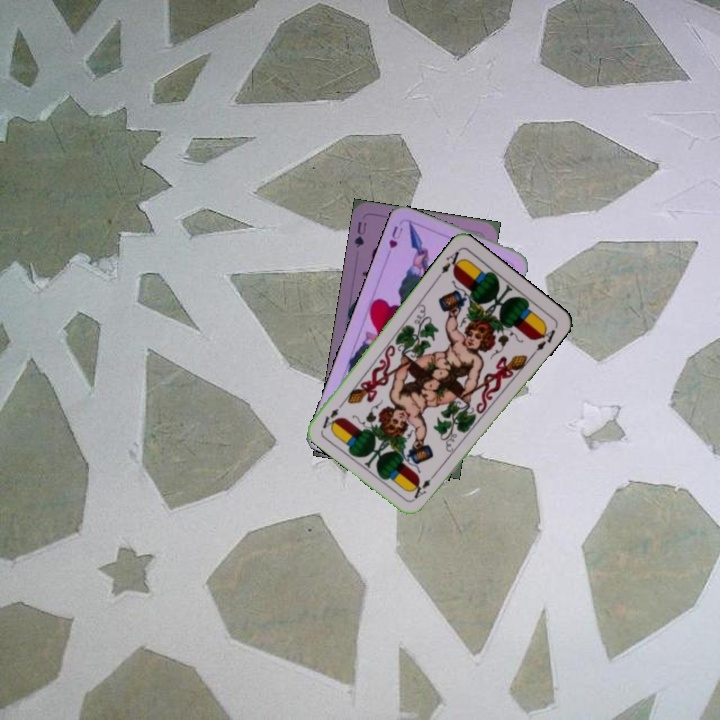EA: (433, 246, 466, 281), (409, 468, 440, 502)
GU: (350, 218, 369, 250)
HU: (385, 222, 406, 251)
